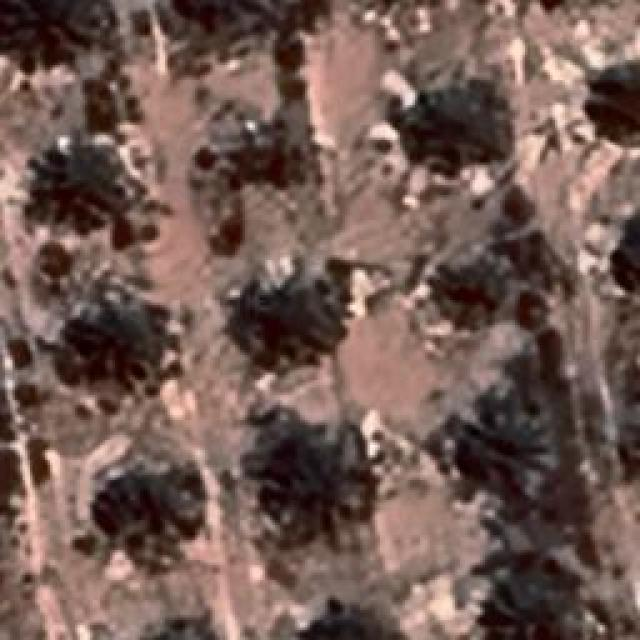PalmTree: (97, 60, 349, 623), (245, 430, 360, 542), (90, 470, 198, 570), (405, 67, 500, 155), (40, 154, 135, 238), (471, 405, 551, 495), (74, 312, 168, 378), (486, 582, 564, 640), (245, 275, 313, 340), (354, 0, 450, 35), (600, 70, 640, 152), (436, 264, 494, 318), (172, 0, 258, 29), (612, 212, 640, 296), (130, 616, 226, 640), (126, 623, 228, 640), (621, 208, 640, 290), (170, 0, 256, 17), (52, 32, 97, 60)
